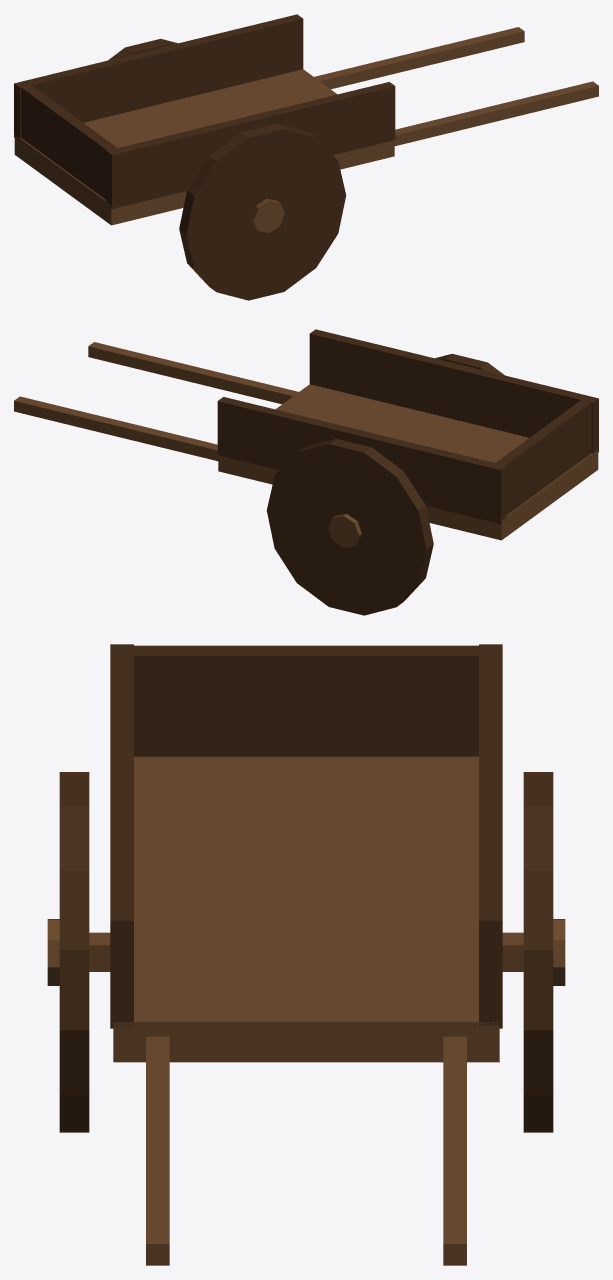
The model's file is hand-cart.glb.
3 views of the same model, one above another, from view 1: azimuth 30°, elevation 25°; view 2: azimuth 150°, elevation 25°; view 3: azimuth 270°, elevation 25° (orthographic). The views are drawn at different scales.
Parts seen in each view (by area): view 1: hand-cart; view 2: hand-cart; view 3: hand-cart.
Boxes of the visible parts, bbox=[...] form: hand-cart: bbox=[14, 14, 598, 300]; hand-cart: bbox=[14, 329, 598, 615]; hand-cart: bbox=[47, 644, 565, 1265].
Bounding box in the file's own units: 3.85 × 1.23 × 1.74.
